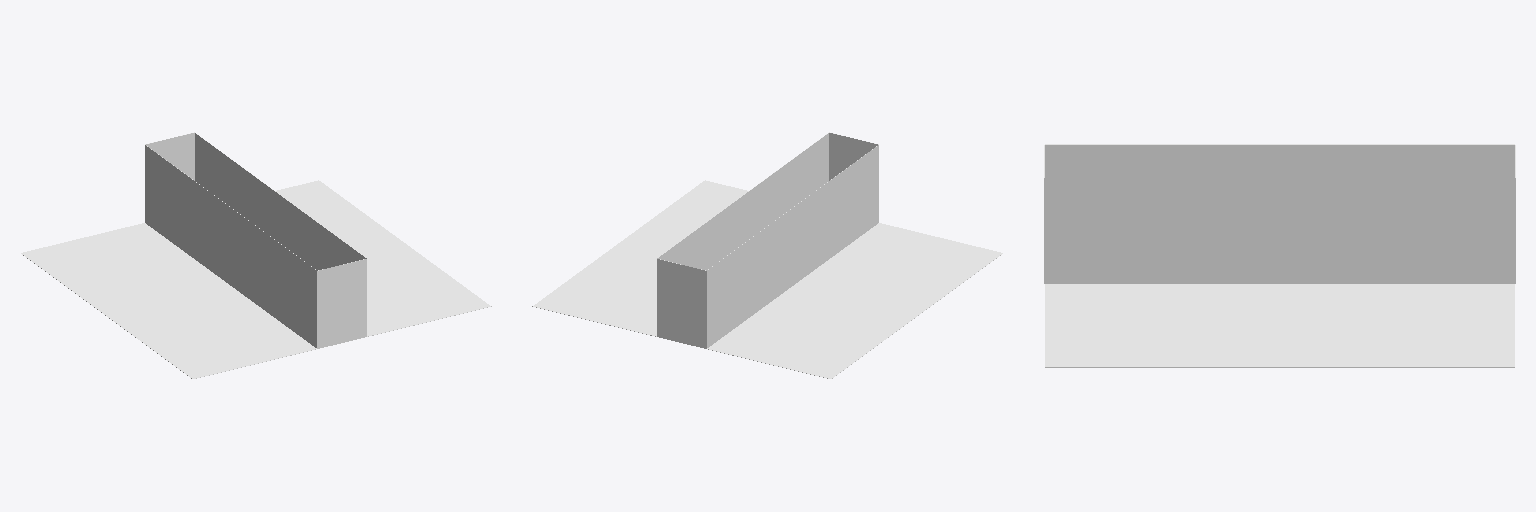
The robot description file, URDF, robot "room2x12":
<?xml version="1.0"?>
<robot name="room2x12">
  <link name="floor_link">
    <visual>
      <geometry>
        <box size="12 12 0.01"/>
      </geometry>
      <origin xyz="0 0 -0.005" rpy="0 0 0"/>
      <material name="white"/>
    </visual>
    <collision>
      <geometry>
        <box size="12 12 0.01"/>
      </geometry>
      <origin xyz="0 0 -0.005" rpy="0 0 0"/>
    </collision>
    <inertial>
      <mass value="3888"/>
      <inertia ixx="46656.0324" ixy="0" ixz="0" iyy="46656.0324" iyz="0" izz="93312"/>
      <origin xyz="0 0 -0.005" rpy="0 0 0"/>
    </inertial>
    <contact>
      <lateral_friction value="1"/>
    </contact>
  </link>
  <material name="blue">
    <color rgba="0 0 0.8 1"/>
  </material>
  <material name="black">
    <color rgba="0 0 0 1"/>
  </material>
  <material name="white">
    <color rgba="1 1 1 1"/>
  </material>
  <link name="north_link">
    <visual>
      <geometry>
        <box size="2 0.01 3"/>
      </geometry>
      <origin xyz="0 0 1.5" rpy="0 0 0"/>
      <material name="white"/>
    </visual>
    <collision>
      <geometry>
        <box size="2 0.01 3"/>
      </geometry>
      <origin xyz="0 0 1.5" rpy="0 0 0"/>
    </collision>
    <inertial>
      <mass value="162"/>
      <inertia ixx="121.50135" ixy="0" ixz="0" iyy="175.5" iyz="0" izz="54.00135"/>
      <origin xyz="0 0 1.5" rpy="0 0 0"/>
    </inertial>
  </link>
  <joint name="north_joint" type="fixed">
    <parent link="floor_link"/>
    <child link="north_link"/>
    <origin xyz="0 6 0" rpy="0 0 0"/>
  </joint>
  <link name="east_link">
    <visual>
      <geometry>
        <box size="12 0.01 3"/>
      </geometry>
      <origin xyz="0 0 1.5" rpy="0 0 1.570796327"/>
      <material name="white"/>
    </visual>
    <collision>
      <geometry>
        <box size="12 0.01 3"/>
      </geometry>
      <origin xyz="0 0 1.5" rpy="0 0 1.570796327"/>
    </collision>
    <inertial>
      <mass value="972"/>
      <inertia ixx="729.0081" ixy="0" ixz="0" iyy="12393" iyz="0" izz="11664.0081"/>
      <origin xyz="0 0 1.5" rpy="0 0 1.570796327"/>
    </inertial>
  </link>
  <joint name="east_joint" type="fixed">
    <parent link="floor_link"/>
    <child link="east_link"/>
    <origin xyz="1 0 0" rpy="0 0 0"/>
  </joint>
  <link name="south_link">
    <visual>
      <geometry>
        <box size="2 0.01 3"/>
      </geometry>
      <origin xyz="0 0 1.5" rpy="0 0 0"/>
      <material name="white"/>
    </visual>
    <collision>
      <geometry>
        <box size="2 0.01 3"/>
      </geometry>
      <origin xyz="0 0 1.5" rpy="0 0 0"/>
    </collision>
    <inertial>
      <mass value="162"/>
      <inertia ixx="121.50135" ixy="0" ixz="0" iyy="175.5" iyz="0" izz="54.00135"/>
      <origin xyz="0 0 1.5" rpy="0 0 0"/>
    </inertial>
  </link>
  <joint name="south_joint" type="fixed">
    <parent link="floor_link"/>
    <child link="south_link"/>
    <origin xyz="0 -6 0" rpy="0 0 0"/>
  </joint>
  <link name="west_link">
    <visual>
      <geometry>
        <box size="12 0.01 3"/>
      </geometry>
      <origin xyz="0 0 1.5" rpy="0 0 1.570796327"/>
      <material name="white"/>
    </visual>
    <collision>
      <geometry>
        <box size="12 0.01 3"/>
      </geometry>
      <origin xyz="0 0 1.5" rpy="0 0 1.570796327"/>
    </collision>
    <inertial>
      <mass value="972"/>
      <inertia ixx="729.0081" ixy="0" ixz="0" iyy="12393" iyz="0" izz="11664.0081"/>
      <origin xyz="0 0 1.5" rpy="0 0 1.570796327"/>
    </inertial>
  </link>
  <joint name="west_joint" type="fixed">
    <parent link="floor_link"/>
    <child link="west_link"/>
    <origin xyz="-1 0 0" rpy="0 0 0"/>
  </joint>
</robot>

--- Facts derived from the render (not from the file) ---
3 views of the same robot in one strip: view 1: azimuth 30°, elevation 25°; view 2: azimuth 150°, elevation 25°; view 3: azimuth 270°, elevation 25° (orthographic).
Model room2x12 with 5 links and 4 joints (4 fixed), rooted at floor_link, posed all joints at 0.
Links seen in each view (by area): view 1: floor_link, west_link, east_link, south_link, north_link; view 2: floor_link, west_link, east_link, north_link, south_link; view 3: east_link, floor_link, west_link.
Link boxes in pixels (x1=…): floor_link: x1=21, y1=180, x2=491, y2=378; west_link: x1=145, y1=145, x2=316, y2=347; east_link: x1=195, y1=133, x2=366, y2=270; south_link: x1=317, y1=259, x2=366, y2=348; north_link: x1=145, y1=132, x2=194, y2=180; floor_link: x1=532, y1=180, x2=1002, y2=378; west_link: x1=707, y1=145, x2=878, y2=347; east_link: x1=657, y1=133, x2=828, y2=270; north_link: x1=657, y1=259, x2=706, y2=348; south_link: x1=829, y1=132, x2=878, y2=180; east_link: x1=1045, y1=178, x2=1514, y2=283; floor_link: x1=1045, y1=284, x2=1514, y2=367; west_link: x1=1045, y1=144, x2=1514, y2=177.
Size in the robot's own frame: 12 by 12.01 by 3.01 metres.
Geometry: primitives only (box / cylinder / sphere), no mesh files.